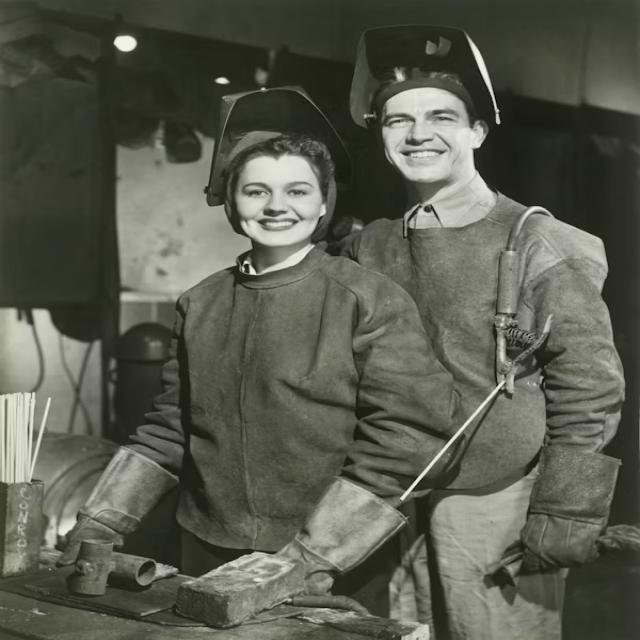helmet_lifted: (351, 20, 514, 213), (200, 80, 345, 279)
